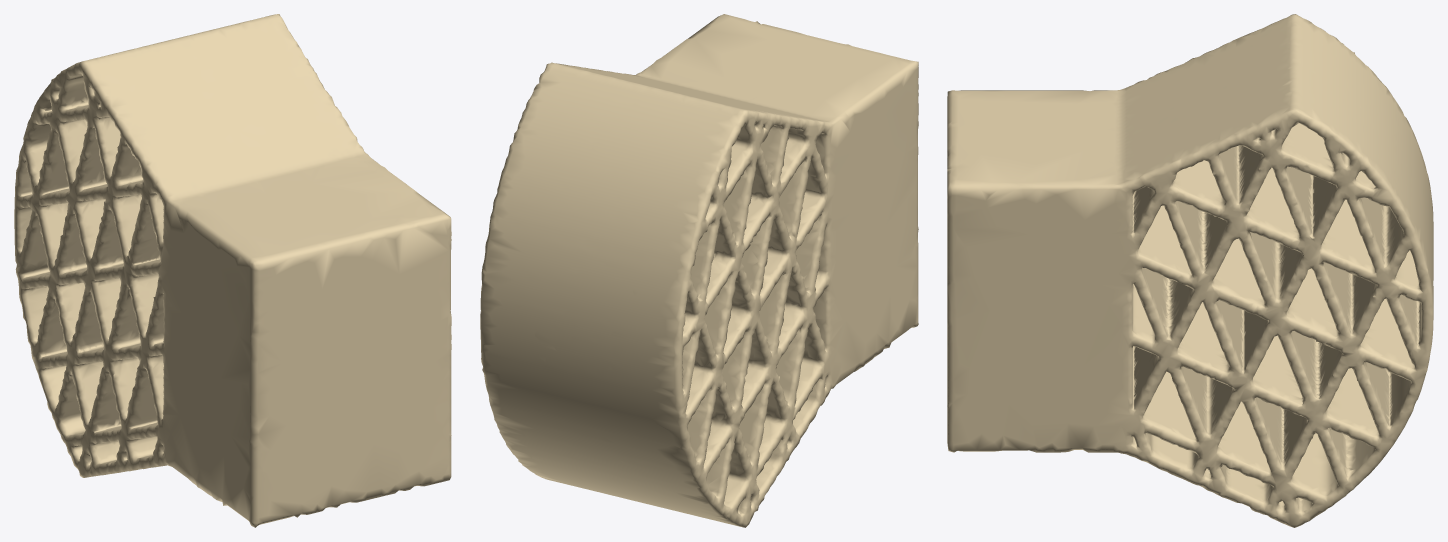
Rendered from ollie-paw-shape-060.glb.
3 renders of one model, left to right at view 1: azimuth 30°, elevation 25°; view 2: azimuth 150°, elevation 25°; view 3: azimuth 270°, elevation 25°, orthographic.
Parts seen in each view (by area): view 1: world; view 2: world; view 3: world.
Boxes of the visible parts, bbox=[...] form: world: bbox=[14, 14, 451, 527]; world: bbox=[480, 14, 918, 527]; world: bbox=[947, 14, 1433, 527].
Size of the model in its own units: 20 by 39.87 by 42.
